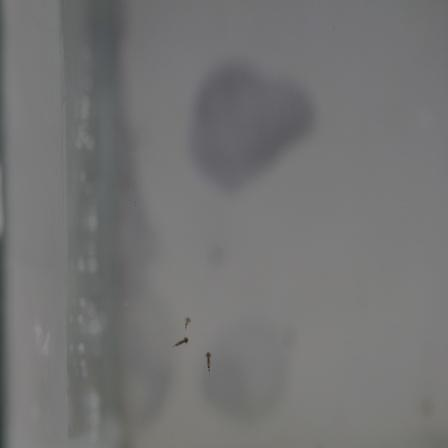Jentik-Nyamuk: (201, 348, 217, 377), (167, 334, 191, 353)
